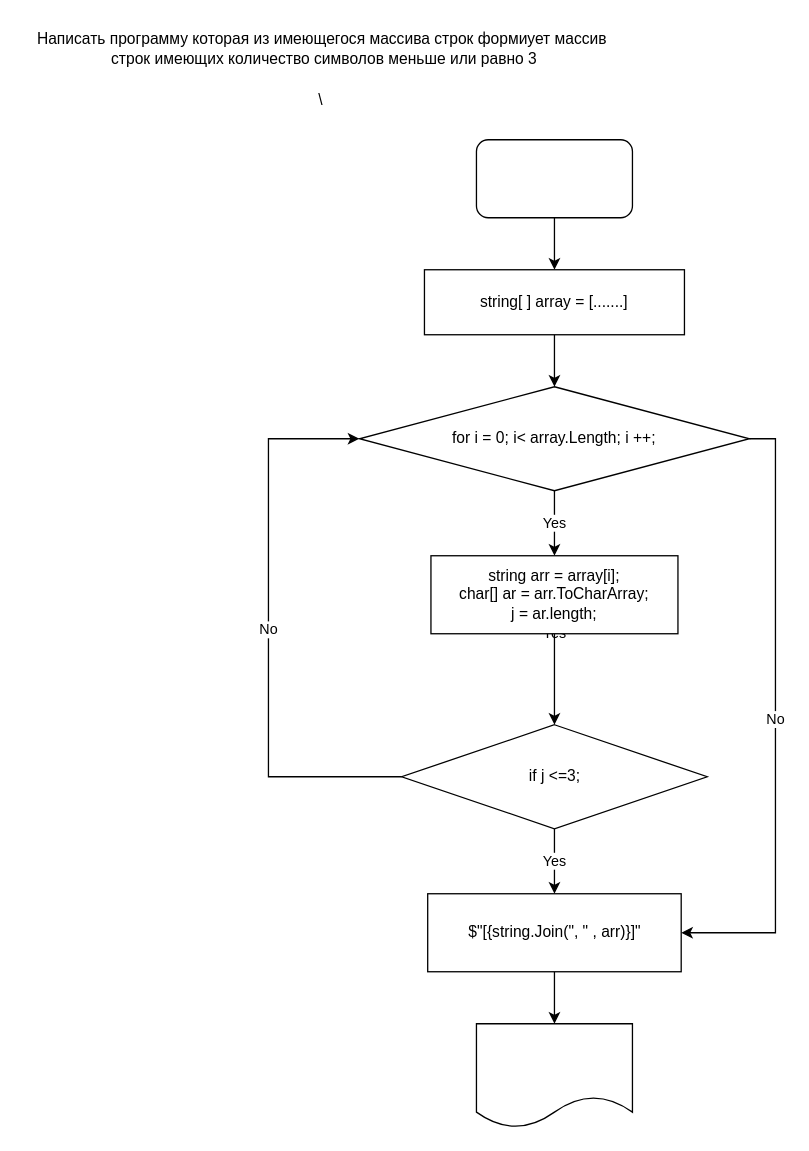
Some shapes in this 809 by 1151 pixel diagram are drawn without their labels. The shapes that lost their labels are listed below. From the top down, each one's centre as x and y in pixels, then its label:
At point 553,178: "Start".
At point 553,1075: "Finish".
